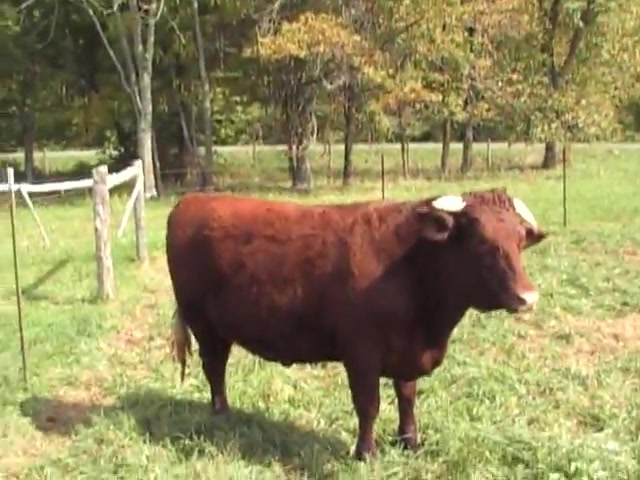cow: (161, 192, 549, 461)
